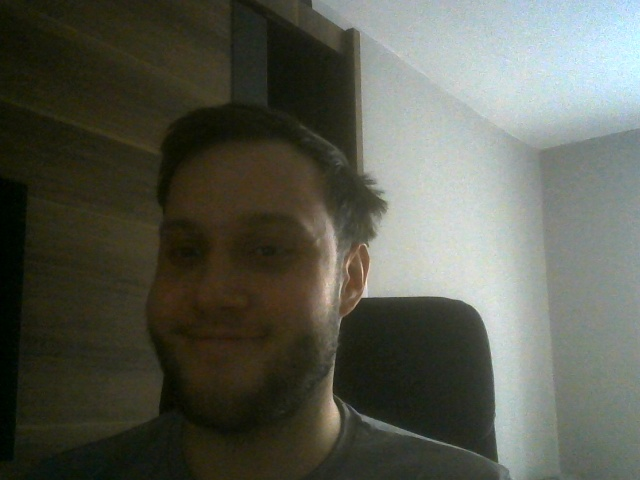happy: (143, 102, 371, 431)
